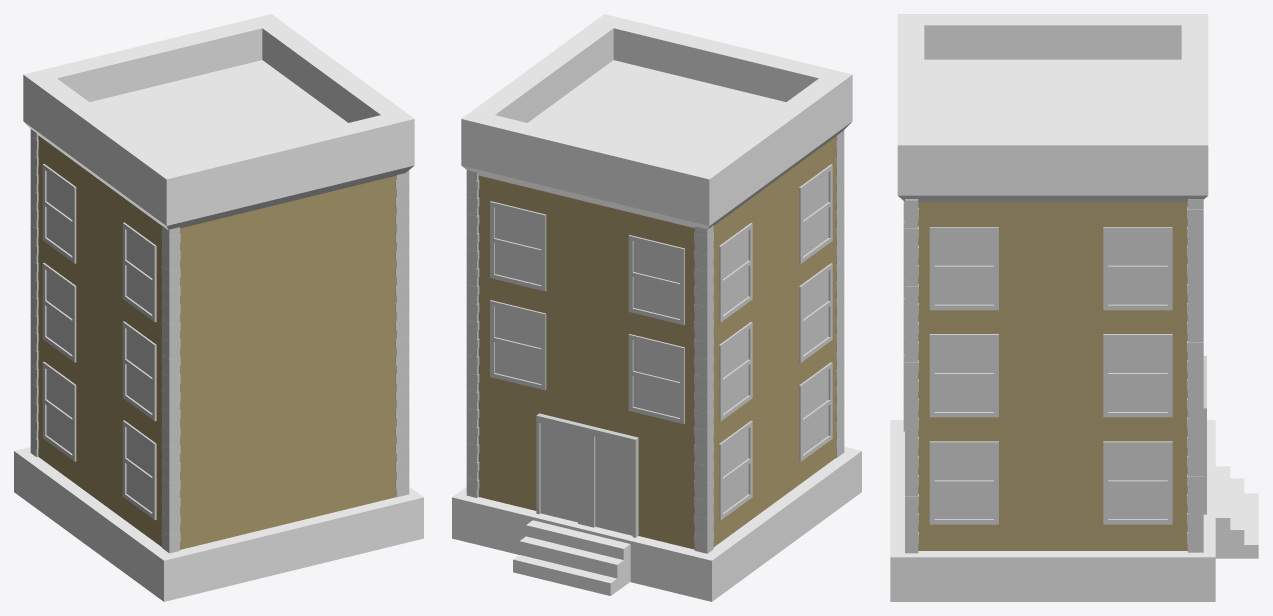
Rendered from Buildingg-002.glb.
The picture shows the model from 3 angles, left to right: view 1: azimuth 30°, elevation 25°; view 2: azimuth 150°, elevation 25°; view 3: azimuth 270°, elevation 25°; orthographic projection. The views are drawn at different scales.
Visible parts, largest first — view 1: building-002; view 2: building-002; view 3: building-002.
Part boxes in pixels (box(x1,y1,x2,y2)): building-002: box(14, 14, 423, 601); building-002: box(452, 14, 861, 601); building-002: box(890, 14, 1258, 601).
Bounding box in the file's own units: 2.71 × 4.17 × 3.06.
Materials: 5 (1 with a texture image).
